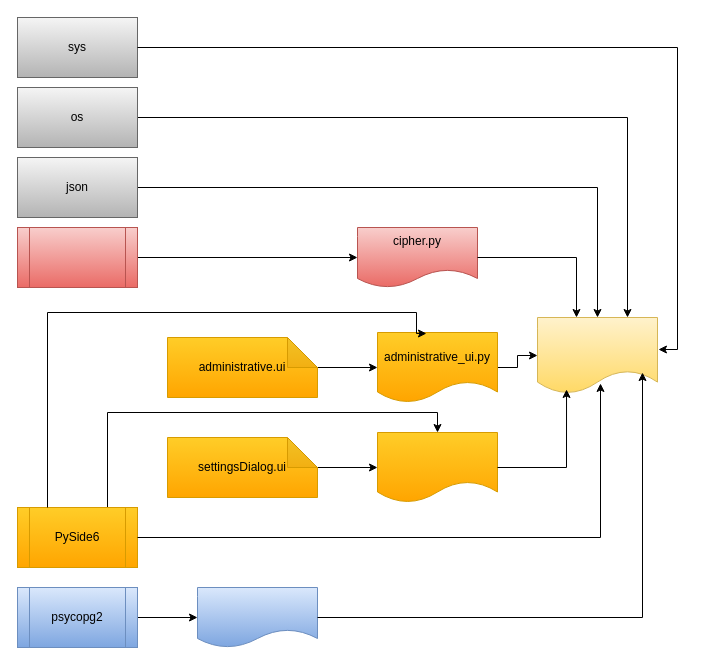
This 703x665 diagram has some shape labels left out. Here are the shapes that lost their labels. From the top down, the centre of each, then its label:
the point at 77,257: cryptograpgy
the point at 597,355: administrative.py
the point at 437,467: settingsDialog_ui.py
the point at 257,617: dbOperations
